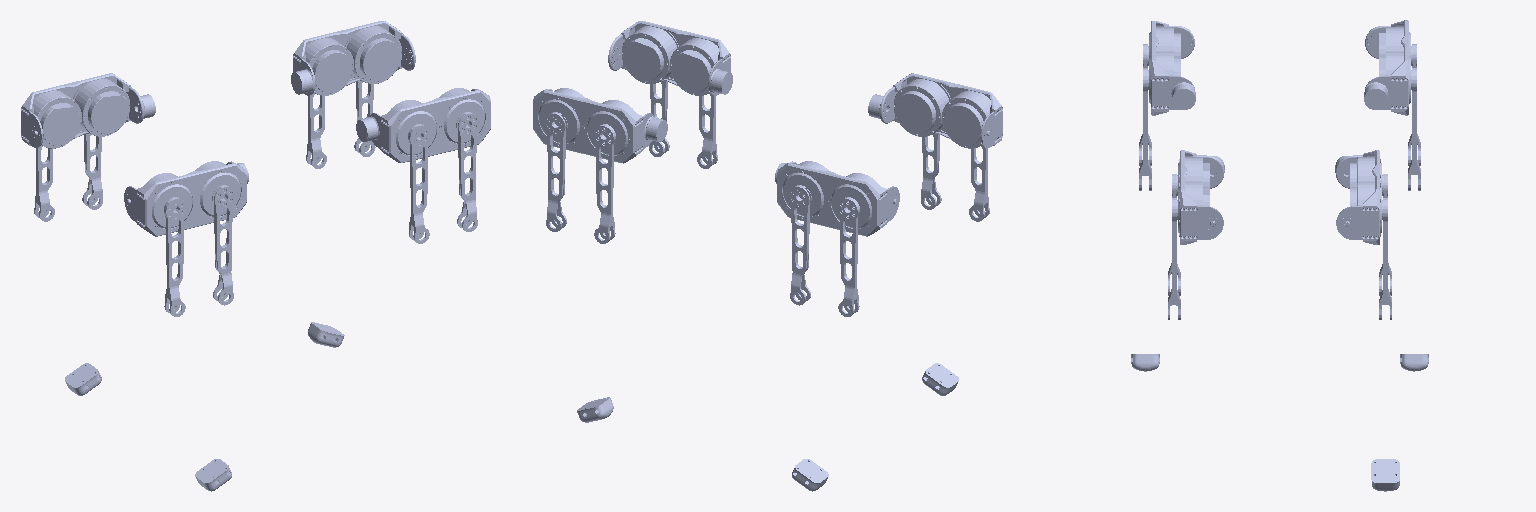
--- Render facts (derived) ---
The picture shows the robot from 3 angles, left to right: view 1: azimuth 30°, elevation 25°; view 2: azimuth 150°, elevation 25°; view 3: azimuth 270°, elevation 25°; orthographic projection.
Model olympus_description with 33 links and 32 joints (20 revolute, 12 fixed), rooted at Body, posed every joint at zero.
Links seen in each view (by area): view 1: BackLeft_motorHousing, FrontLeft_motorHousing, FrontRight_motorHousing, BackRight_motorHousing, BackRight_hip_inner, FrontRight_hip_outer, FrontRight_hip_inner, BackRight_hip_outer, BackLeft_hip_inner, BackLeft_hip_outer, FrontLeft_hip_inner, BackLeft_paw (+3 smaller); view 2: BackRight_motorHousing, FrontRight_motorHousing, FrontLeft_motorHousing, BackLeft_motorHousing, BackLeft_hip_inner, FrontLeft_hip_outer, FrontLeft_hip_inner, BackLeft_hip_outer, BackRight_hip_inner, BackRight_hip_outer, FrontRight_hip_inner, BackRight_paw (+3 smaller); view 3: BackLeft_motorHousing, BackRight_motorHousing, FrontLeft_motorHousing, FrontRight_motorHousing, FrontLeft_paw, BackRight_hip_inner, BackLeft_hip_inner, FrontRight_hip_outer, FrontLeft_hip_outer.
Boxes of the visible links, x1=… form: BackLeft_motorHousing: x1=21, y1=73, x2=155, y2=148; FrontLeft_motorHousing: x1=291, y1=21, x2=415, y2=95; FrontRight_motorHousing: x1=356, y1=88, x2=490, y2=162; BackRight_motorHousing: x1=124, y1=161, x2=248, y2=236; BackRight_hip_inner: x1=212, y1=185, x2=234, y2=305; FrontRight_hip_outer: x1=456, y1=112, x2=478, y2=231; FrontRight_hip_inner: x1=408, y1=124, x2=429, y2=243; BackRight_hip_outer: x1=164, y1=197, x2=185, y2=316; BackLeft_hip_inner: x1=82, y1=133, x2=102, y2=209; BackLeft_hip_outer: x1=34, y1=145, x2=54, y2=221; FrontLeft_hip_inner: x1=306, y1=93, x2=326, y2=168; BackLeft_paw: x1=65, y1=363, x2=101, y2=395; BackRight_motorHousing: x1=868, y1=73, x2=1002, y2=148; FrontRight_motorHousing: x1=608, y1=21, x2=732, y2=95; FrontLeft_motorHousing: x1=533, y1=88, x2=667, y2=163; BackLeft_motorHousing: x1=775, y1=161, x2=899, y2=236; BackLeft_hip_inner: x1=789, y1=185, x2=811, y2=305; FrontLeft_hip_outer: x1=545, y1=112, x2=567, y2=231; FrontLeft_hip_inner: x1=594, y1=124, x2=615, y2=243; BackLeft_hip_outer: x1=838, y1=197, x2=859, y2=316; BackRight_hip_inner: x1=921, y1=133, x2=941, y2=209; BackRight_hip_outer: x1=969, y1=145, x2=989, y2=221; FrontRight_hip_inner: x1=697, y1=93, x2=717, y2=168; BackRight_paw: x1=922, y1=363, x2=958, y2=395; BackLeft_motorHousing: x1=1364, y1=20, x2=1410, y2=115; BackRight_motorHousing: x1=1149, y1=21, x2=1195, y2=115; FrontLeft_motorHousing: x1=1335, y1=150, x2=1381, y2=244; FrontRight_motorHousing: x1=1178, y1=150, x2=1224, y2=244; FrontLeft_paw: x1=1371, y1=459, x2=1399, y2=491; BackRight_hip_inner: x1=1139, y1=68, x2=1151, y2=190; BackLeft_hip_inner: x1=1408, y1=68, x2=1420, y2=190; FrontRight_hip_outer: x1=1168, y1=198, x2=1180, y2=319; FrontLeft_hip_outer: x1=1379, y1=198, x2=1391, y2=319.
Size in the robot's own frame: 0.677 by 0.4654 by 0.5616 metres.
Meshes: 25 distinct files referenced, 15 mesh visuals loaded (15 binary STL); not drawn: 10 (reference not matched to a file when rendering).

robot.urdf — olympus_description:
<?xml version="1.0" ?>
<robot
  name="olympus_description">

  <link
    name="Body">
    <inertial>
      <origin
        xyz="-0.0093903 0.00018696 0.011109"
        rpy="0 0 0" />
      <mass
        value="5.679" />
      <inertia
        ixx="0.05428615"
        ixy="-0.00110179"
        ixz="-0.0017034"
        iyy="0.15070598"
        iyz="0.00013585"
        izz="0.19574722" />
    </inertial>
    <visual>
      <origin
        xyz="0 0 0"
        rpy="0 0 0" />
      <geometry>
        <mesh
          filename="package://olympus_description/urdf/meshes/Body.STL" />
      </geometry>
      <material
        name="">
        <color
          rgba="0.79216 0.81961 0.93333 1" />
      </material>
    </visual>
    <collision>
      <origin
        xyz="0 0 0"
        rpy="0 0 0" />
      <geometry>
        <mesh
          filename="package://olympus_description/urdf/meshes/Body.STL" />
      </geometry>
    </collision>
  </link>
  



  
  
  <!---

  

  <joint name="world_joint" type="fixed" >
    <origin
          xyz="0 0 0"
          rpy="0 0 0" />
      <parent
        link="world" />
      <child
        link="Body" />
  </joint>
  -->
  
  <link
    name="FrontLeft_motorHousing">
    <inertial>
      <origin
        xyz="0.092829 0.02913 0.00023828"
        rpy="0 0 0" />
      <mass
        value="1.437" />
      <inertia
        ixx="0.00232895"
        ixy="0.00418147"
        ixz="3.194E-05"
        iyy="0.01861991"
        iyz="4.4E-06"
        izz="0.01948836" />
    </inertial>
    <visual>
      <origin
        xyz="0 0 0"
        rpy="0 0 0" />
      <geometry>
        <mesh
          filename="package://olympus_description/urdf/meshes/FrontLeft_motorHousing.STL" />
      </geometry>
      <material
        name="">
        <color
          rgba="0.79216 0.81961 0.93333 1" />
      </material>
    </visual>
    <collision>
      <origin
        xyz="0 0 0"
        rpy="0 0 0" />
      <geometry>
        <mesh
          filename="package://olympus_description/urdf/meshes/FrontLeft_motorHousing.STL" />
      </geometry>
    </collision>
  </link>
  <joint
    name="FrontLeft_motorHousing_hipAduction_motor"
    type="revolute">
    <origin
      xyz="0.143300000000002 0.104999999999997 0"
      rpy="0 0 0" />
    <parent
      link="Body" />
    <child
      link="FrontLeft_motorHousing" />
    <axis
      xyz="-1 0 0" />
    <limit
      lower="-1.57"
      upper="1.57"
      effort="0"
      velocity="0" />
  </joint>
  <link
    name="FrontLeft_hip_outer">
    <inertial>
      <origin
        xyz="0.00087097 -0.0026333 -0.059284"
        rpy="0 0 0" />
      <mass
        value="0.0813" />
      <inertia
        ixx="0.00080451"
        ixy="7E-08"
        ixz="-1.097E-05"
        iyy="0.00081035"
        iyz="-4.68E-06"
        izz="8.51E-06" />
    </inertial>
    <visual>
      <origin
        xyz="0 0 0"
        rpy="0 0 0" />
      <geometry>
        <mesh
          filename="package://olympus_description/urdf/meshes/FrontLeft_hip_outer.STL" />
      </geometry>
      <material
        name="">
        <color
          rgba="0.79216 0.81961 0.93333 1" />
      </material>
    </visual>
    <collision>
      <origin
        xyz="0 0 0"
        rpy="0 0 0" />
      <geometry>
        <mesh
          filename="package://olympus_description/urdf/meshes/FrontLeft_hip_outer.STL" />
      </geometry>
    </collision>
  </link>
  <joint
    name="FrontLeft_hip_outer_motor"
    type="revolute">
    <origin
      xyz="0.141699999999999 0.0594499999999993 -1.13383701894222E-05"
      rpy="0 0 0" />
    <parent
      link="FrontLeft_motorHousing" />
    <child
      link="FrontLeft_hip_outer" />
    <axis
      xyz="0 1 0" />
    <limit
      lower="-1.57"
      upper="1.57"
      effort="0"
      velocity="0" />
  </joint>
  <link
    name="FrontLeft_shank_outer">
    <inertial>
      <origin
        xyz="0.0044745 -6.207E-07 -0.16466"
        rpy="0 0 0" />
      <mass
        value="0.1992" />
      <inertia
        ixx="0.0081046"
        ixy="3E-08"
        ixz="-8.7E-05"
        iyy="0.00810896"
        iyz="-1.7E-06"
        izz="2.321E-05" />
    </inertial>
    <visual>
      <origin
        xyz="0 0 0"
        rpy="0 0 0" />
      <geometry>
        <mesh
          filename="package://olympus_description/urdf/meshes/FrontLeft_shank_outer.STL" />
      </geometry>
      <material
        name="">
        <color
          rgba="0.79216 0.81961 0.93333 1" />
      </material>
    </visual>
    <collision>
      <origin
        xyz="0 0 0"
        rpy="0 0 0" />
      <geometry>
        <mesh
          filename="package://olympus_description/urdf/meshes/FrontLeft_shank_outer.STL" />
      </geometry>
    </collision>
  </link>
  <joint
    name="FrontLeft_shank_outer_knee"
    type="revolute">
    <origin
      xyz="0 0.000749999999999196 -0.175000000000029"
      rpy="0 0.145529485228563 0" />
    <parent
      link="FrontLeft_hip_outer" />
    <child
      link="FrontLeft_shank_outer" />
    <axis
      xyz="0 1 0" />
    <limit
      lower="-1.57"
      upper="1.57"
      effort="0"
      velocity="0" />
  </joint>
  <link
    name="FrontLeft_hip_inner">
    <inertial>
      <origin
        xyz="-0.00087111 -0.0026375 -0.059532"
        rpy="0 0 0" />
      <mass
        value="0.081" />
      <inertia
        ixx="0.00080743"
        ixy="-7E-08"
        ixz="1.1E-05"
        iyy="0.00081318"
        iyz="-4.71E-06"
        izz="3.7587E-06" />
    </inertial>
    <visual>
      <origin
        xyz="0 0 0"
        rpy="0 0 0" />
      <geometry>
        <mesh
          filename="package://olympus_description/urdf/meshes/FrontLeft_hip_inner.STL" />
      </geometry>
      <material
        name="">
        <color
          rgba="0.79216 0.81961 0.93333 1" />
      </material>
    </visual>
    <collision>
      <origin
        xyz="0 0 0"
        rpy="0 0 0" />
      <geometry>
        <mesh
          filename="package://olympus_description/urdf/meshes/FrontLeft_hip_inner.STL" />
      </geometry>
    </collision>
  </link>
  <joint
    name="FrontLeft_hip_inner_motor"
    type="revolute">
    <origin
      xyz="0.051699999999999 0.0594499999999993 -1.1338370204463E-05"
      rpy="0 0 0" />
    <parent
      link="FrontLeft_motorHousing" />
    <child
      link="FrontLeft_hip_inner" />
    <axis
      xyz="0 1 0" />
    <limit
      lower="-1.57"
      upper="1.57"
      effort="0"
      velocity="0" />
  </joint>
  <link
    name="FrontLeft_shank_inner">
    <inertial>
      <origin
        xyz="-0.018257 -5.7848E-07 -0.18193"
        rpy="0 0 0" />
      <mass
        value="0.1993" />
      <inertia
        ixx="0.00799515"
        ixy="-1.3E-07"
        ixz="0.00072855"
        iyy="0.00807089"
        iyz="-1.55E-06"
        izz="9.64E-05" />
    </inertial>
    <visual>
      <origin
        xyz="0 0 0"
        rpy="0 0 0" />
      <geometry>
        <mesh
          filename="package://olympus_description/urdf/meshes/FrontLeft_shank_inner.STL" />
      </geometry>
      <material
        name="">
        <color
          rgba="0.79216 0.81961 0.93333 1" />
      </material>
    </visual>
    <collision>
      <origin
        xyz="0 0 0"
        rpy="0 0 0" />
      <geometry>
        <mesh
          filename="package://olympus_description/urdf/meshes/FrontLeft_shank_inner.STL" />
      </geometry>
    </collision>
  </link>
  <joint
    name="FrontLeft_shank_inner_knee"
    type="revolute">
    <origin
      xyz="0 0.000750000000007855 -0.175000000000014"
      rpy="0 -0.156107447167547 0" />
    <parent
      link="FrontLeft_hip_inner" />
    <child
      link="FrontLeft_shank_inner" />
    <axis
      xyz="0 1 0" />
    <limit
      lower="-1.57"
      upper="1.57"
      effort="0"
      velocity="0" />
  </joint>
  <link
    name="FrontLeft_paw">
    <inertial>
      <origin
        xyz="-0.00016141 -2.5484E-07 0.0013973"
        rpy="0 0 0" />
      <mass
        value="0.02" />
      <inertia
        ixx="3.73E-06"
        ixy="-2.6396E-10"
        ixz="-2E-08"
        iyy="4.78E-06"
        iyz="-7.8092E-11"
        izz="6.37E-06" />
    </inertial>
    <visual>
      <origin
        xyz="0 0 0"
        rpy="0 0 0" />
      <geometry>
        <mesh
          filename="package://olympus_description/urdf/meshes/FrontLeft_paw.STL" />
      </geometry>
      <material
        name="">
        <color
          rgba="0.79216 0.81961 0.93333 1" />
      </material>
    </visual>
    <collision>
      <origin
        xyz="0 0 0"
        rpy="0 0 0" />
      <geometry>
        <mesh
          filename="package://olympus_description/urdf/meshes/FrontLeft_paw.STL" />
      </geometry>
    </collision>
  </link>
  <joint
    name="FrontLeft_paw_joint"
    type="fixed">
    <origin
      xyz="-0.034316172849209 0 -0.318287120023731"
      rpy="0 -0.587745839939292 3.14159265358979" />
    <parent
      link="FrontLeft_shank_inner" />
    <child
      link="FrontLeft_paw" />
    <axis
      xyz="0 0 0" />
  </joint>

  <link
    name="FrontRight_motorHousing">
    <inertial>
      <origin
        xyz="0.092829 -0.02913 -0.00023828"
        rpy="0 0 0" />
      <mass
        value="1.4374" />
      <inertia
        ixx="0.00232895"
        ixy="-0.00418147"
        ixz="-3.194E-05"
        iyy="0.01861991"
        iyz="4.4E-06"
        izz="0.01948836" />
    </inertial>
    <visual>
      <origin
        xyz="0 0 0"
        rpy="0 0 0" />
      <geometry>
        <mesh
          filename="package://olympus_description/urdf/meshes/FrontRight_motorHousing.STL" />
      </geometry>
      <material
        name="">
        <color
          rgba="0.79216 0.81961 0.93333 1" />
      </material>
    </visual>
    <collision>
      <origin
        xyz="0 0 0"
        rpy="0 0 0" />
      <geometry>
        <mesh
          filename="package://olympus_description/urdf/meshes/FrontRight_motorHousing.STL" />
      </geometry>
    </collision>
  </link>
  <joint
    name="FrontRight_motorHousing_hipAduction_motor"
    type="revolute">
    <origin
      xyz="0.143300000000001 -0.104999999999999 0"
      rpy="0 0 0" />
    <parent
      link="Body" />
    <child
      link="FrontRight_motorHousing" />
    <axis
      xyz="-1 0 0" />
    <limit
      lower="-1.57"
      upper="1.57"
      effort="0"
      velocity="0" />
  </joint>
  <link
    name="FrontRight_hip_outer">
    <inertial>
      <origin
        xyz="0.00087111 0.0026375 -0.059532"
        rpy="0 0 0" />
      <mass
        value="0.0805" />
      <inertia
        ixx="0.00080743"
        ixy="-7E-08"
        ixz="-1.1E-05"
        iyy="0.00081318"
        iyz="4.71E-06"
        izz="8.42E-06" />
    </inertial>
    <visual>
      <origin
        xyz="0 0 0"
        rpy="0 0 0" />
      <geometry>
        <mesh
          filename="package://olympus_description/urdf/meshes/FrontRight_hip_outer.STL" />
      </geometry>
      <material
        name="">
        <color
          rgba="0.79216 0.81961 0.93333 1" />
      </material>
    </visual>
    <collision>
      <origin
        xyz="0 0 0"
        rpy="0 0 0" />
      <geometry>
        <mesh
          filename="package://olympus_description/urdf/meshes/FrontRight_hip_outer.STL" />
      </geometry>
    </collision>
  </link>
  <joint
    name="FrontRight_hip_outer_motor"
    type="revolute">
    <origin
      xyz="0.141700000000001 -0.0594500000000023 1.13383701978259E-05"
      rpy="0 0 0" />
    <parent
      link="FrontRight_motorHousing" />
    <child
      link="FrontRight_hip_outer" />
    <axis
      xyz="0 -1 0" />
    <limit
      lower="-1.57"
      upper="1.57"
      effort="0"
      velocity="0" />
  </joint>
  <link
    name="FrontRight_shank_outer">
    <inertial>
      <origin
        xyz="0.0044745 -6.1929E-07 -0.16466"
        rpy="0 0 0" />
      <mass
        value="0.1992" />
      <inertia
        ixx="0.0081046"
        ixy="3E-08"
        ixz="-8.7E-05"
        iyy="0.00810896"
        iyz="-1.7E-06"
        izz="2.321E-05" />
    </inertial>
    <visual>
      <origin
        xyz="0 0 0"
        rpy="0 0 0" />
      <geometry>
        <mesh
          filename="package://olympus_description/urdf/meshes/FrontRight_shank_outer.STL" />
      </geometry>
      <material
        name="">
        <color
          rgba="0.79216 0.81961 0.93333 1" />
      </material>
    </visual>
    <collision>
      <origin
        xyz="0 0 0"
        rpy="0 0 0" />
      <geometry>
        <mesh
          filename="package://olympus_description/urdf/meshes/FrontRight_shank_outer.STL" />
      </geometry>
    </collision>
  </link>
  <joint
    name="FrontRight_shank_outer_knee"
    type="revolute">
    <origin
      xyz="0 -0.000750000000000334 -0.174999999999994"
      rpy="0 0.145529485228574 0" />
    <parent
      link="FrontRight_hip_outer" />
    <child
      link="FrontRight_shank_outer" />
    <axis
      xyz="0 1 0" />
    <limit
      lower="-1.57"
      upper="1.57"
      effort="0"
      velocity="0" />
  </joint>
  <link
    name="FrontRight_hip_inner">
    <inertial>
      <origin
        xyz="-0.00087097 0.0026333 -0.059284"
        rpy="0 0 0" />
      <mass
        value="0.081" />
      <inertia
        ixx="0.00080451"
        ixy="7E-08"
        ixz="1.098E-05"
        iyy="0.00081035"
        iyz="4.68E-06"
        izz="8.51E-06" />
    </inertial>
    <visual>
      <origin
        xyz="0 0 0"
        rpy="0 0 0" />
      <geometry>
        <mesh
          filename="package://olympus_description/urdf/meshes/FrontRight_hip_inner.STL" />
      </geometry>
      <material
        name="">
        <color
          rgba="0.79216 0.81961 0.93333 1" />
      </material>
    </visual>
    <collision>
      <origin
        xyz="0 0 0"
        rpy="0 0 0" />
      <geometry>
        <mesh
          filename="package://olympus_description/urdf/meshes/FrontRight_hip_inner.STL" />
      </geometry>
    </collision>
  </link>
  <joint
    name="FrontRight_hip_inner_motor"
    type="revolute">
    <origin
      xyz="0.0517000000000003 -0.0594500000000019 1.13383701956029E-05"
      rpy="0 0 0" />
    <parent
      link="FrontRight_motorHousing" />
    <child
      link="FrontRight_hip_inner" />
    <axis
      xyz="0 1 0" />
    <limit
      lower="-1.57"
      upper="1.57"
      effort="0"
      velocity="0" />
  </joint>
  <link
    name="FrontRight_shank_inner">
    <inertial>
      <origin
        xyz="-0.018257 -5.8199E-07 -0.18193"
        rpy="0 0 0" />
      <mass
        value="0.1992" />
      <inertia
        ixx="0.00799515"
        ixy="-1.3E-07"
        ixz="0.00072855"
        iyy="0.00807089"
        iyz="-1.55E-06"
        izz="9.64E-05" />
    </inertial>
    <visual>
      <origin
        xyz="0 0 0"
        rpy="0 0 0" />
      <geometry>
        <mesh
          filename="package://olympus_description/urdf/meshes/FrontRight_shank_inner.STL" />
      </geometry>
      <material
        name="">
        <color
          rgba="0.79216 0.81961 0.93333 1" />
      </material>
    </visual>
    <collision>
      <origin
        xyz="0 0 0"
        rpy="0 0 0" />
      <geometry>
        <mesh
          filename="package://olympus_description/urdf/meshes/FrontRight_shank_inner.STL" />
      </geometry>
    </collision>
  </link>
  <joint
    name="FrontRight_shank_inner_knee"
    type="revolute">
    <origin
      xyz="0 -0.000749999999992201 -0.174999999999991"
      rpy="0 -0.156107447167536 0" />
    <parent
      link="FrontRight_hip_inner" />
    <child
      link="FrontRight_shank_inner" />
    <axis
      xyz="0 1 0" />
    <limit
      lower="-1.57"
      upper="1.57"
      effort="0"
      velocity="0" />
  </joint>
  <link
    name="FrontRight_paw">
    <inertial>
      <origin
        xyz="-0.00016141 -2.5484E-07 0.0013973"
        rpy="0 0 0" />
      <mass
        value="0.02" />
      <inertia
        ixx="3.73E-06"
        ixy="0"
        ixz="-2E-08"
        iyy="4.78E-06"
        iyz="0"
        izz="6.37E-06" />
    </inertial>
    <visual>
      <origin
        xyz="0 0 0"
        rpy="0 0 0" />
      <geometry>
        <mesh
          filename="package://olympus_description/urdf/meshes/FrontRight_paw.STL" />
      </geometry>
      <material
        name="">
        <color
          rgba="0.79216 0.81961 0.93333 1" />
      </material>
    </visual>
    <collision>
      <origin
        xyz="0 0 0"
        rpy="0 0 0" />
      <geometry>
        <mesh
          filename="package://olympus_description/urdf/meshes/FrontRight_paw.STL" />
      </geometry>
    </collision>
  </link>
  <joint
    name="FrontRight_paw_joint"
    type="fixed">
    <origin
      xyz="-0.0343161728492139 0 -0.318287120023735"
      rpy="0 -0.587745839939292 3.14159265358979" />
    <parent
      link="FrontRight_shank_inner" />
    <child
      link="FrontRight_paw" />
    <axis
      xyz="0 0 0" />
  </joint>
  <link
    name="BackLeft_motorHousing">
    <inertial>
      <origin
        xyz="-0.092829 0.02913 -0.00023828"
        rpy="0 0 0" />
      <mass
        value="1.437" />
      <inertia
        ixx="0.00232895"
        ixy="-0.00418147"
        ixz="3.194E-05"
        iyy="0.01861991"
        iyz="-4.4E-06"
        izz="0.01948836" />
    </inertial>
    <visual>
      <origin
        xyz="0 0 0"
        rpy="0 0 0" />
      <geometry>
        <mesh
          filename="package://olympus_description/urdf/meshes/BackLeft_motorHousing.STL" />
      </geometry>
      <material
        name="">
        <color
          rgba="0.79216 0.81961 0.93333 1" />
      </material>
    </visual>
    <collision>
      <origin
        xyz="0 0 0"
        rpy="0 0 0" />
      <geometry>
        <mesh
          filename="package://olympus_description/urdf/meshes/BackLeft_motorHousing.STL" />
      </geometry>
    </collision>
  </link>
  <joint
    name="BackLeft_motorHousing_hipAduction_motor"
    type="revolute">
    <origin
      xyz="-0.143300000000002 0.149999999999995 0"
      rpy="0 0 0" />
    <parent
      link="Body" />
    <child
      link="BackLeft_motorHousing" />
    <axis
      xyz="1 0 0" />
    <limit
      lower="-1.57"
      upper="1.57"
      effort="0"
      velocity="0" />
  </joint>
  <link
    name="BackLeft_hip_outer">
    <inertial>
      <origin
        xyz="-0.00087111 -0.0026375 -0.059532"
        rpy="0 0 0" />
      <mass
        value="0.0805" />
      <inertia
        ixx="0.00080743"
        ixy="-7E-08"
        ixz="1.1E-05"
        iyy="0.00081318"
        iyz="-4.71E-06"
        izz="8.42E-06" />
    </inertial>
    <visual>
      <origin
        xyz="0 0 0"
        rpy="0 0 0" />
      <geometry>
        <mesh
          filename="package://olympus_description/urdf/meshes/BackLeft_hip_outer.STL" />
      </geometry>
      <material
        name="">
        <color
          rgba="0.79216 0.81961 0.93333 1" />
      </material>
    </visual>
    <collision>
      <origin
        xyz="0 0 0"
        rpy="0 0 0" />
      <geometry>
        <mesh
          filename="package://olympus_description/urdf/meshes/BackLeft_hip_outer.STL" />
      </geometry>
    </collision>
  </link>
  <joint
    name="BackLeft_hip_outer_motor"
    type="revolute">
    <origin
      xyz="-0.141699999999998 0.059450000000001 1.13383699833258E-05"
      rpy="0 0 0" />
    <parent
      link="BackLeft_motorHousing" />
    <child
      link="BackLeft_hip_outer" />
    <axis
      xyz="0 -1 0" />
    <limit
      lower="-1.57"
      upper="1.57"
      effort="0"
      velocity="0" />
  </joint>
  <link
    name="BackLeft_shank_outer">
    <inertial>
      <origin
        xyz="-0.0044745 6.2096E-07 -0.16466"
        rpy="0 0 0" />
      <mass
        value="0.1992" />
      <inertia
        ixx="0.0081046"
        ixy="3E-08"
        ixz="8.7E-05"
        iyy="0.00810896"
        iyz="1.7E-06"
        izz="2.321E-05" />
    </inertial>
    <visual>
      <origin
        xyz="0 0 0"
        rpy="0 0 0" />
      <geometry>
        <mesh
          filename="package://olympus_description/urdf/meshes/BackLeft_shank_outer.STL" />
      </geometry>
      <material
        name="">
        <color
          rgba="0.79216 0.81961 0.93333 1" />
      </material>
    </visual>
    <collision>
      <origin
        xyz="0 0 0"
        rpy="0 0 0" />
      <geometry>
        <mesh
          filename="package://olympus_description/urdf/meshes/BackLeft_shank_outer.STL" />
      </geometry>
    </collision>
  </link>
  <joint
    name="BackLeft_shank_outer_knee"
    type="revolute">
    <origin
      xyz="0 0.000749999999989648 -0.174999999999787"
      rpy="0 -0.145529485231085 0" />
    <parent
      link="BackLeft_hip_outer" />
    <child
      link="BackLeft_shank_outer" />
    <axis
      xyz="0 1 0" />
    <limit
      lower="-1.57"
      upper="1.57"
      effort="0"
      velocity="0" />
  </joint>
  <link
    name="BackLeft_hip_inner">
    <inertial>
      <origin
        xyz="0.00087097 -0.0026333 -0.059284"
        rpy="0 0 0" />
      <mass
        value="0.081" />
      <inertia
        ixx="0.00080451"
        ixy="7E-08"
        ixz="-1.097E-05"
        iyy="0.00081035"
        iyz="-4.68E-06"
        izz="8.51E-06" />
    </inertial>
    <visual>
      <origin
        xyz="0 0 0"
        rpy="0 0 0" />
      <geometry>
        <mesh
          filename="package://olympus_description/urdf/meshes/BackLeft_hip_inner.STL" />
      </geometry>
      <material
        name="">
        <color
          rgba="0.79216 0.81961 0.93333 1" />
      </material>
    </visual>
    <collision>
      <origin
        xyz="0 0 0"
        rpy="0 0 0" />
      <geometry>
        <mesh
          filename="package://olympus_description/urdf/meshes/BackLeft_hip_inner.STL" />
      </geometry>
    </collision>
  </link>
  <joint
    name="BackLeft_hip_inner_motor"
    type="revolute">
    <origin
      xyz="-0.0516999999999978 0.0594500000000004 1.13383700547322E-05"
      rpy="0 0 0" />
    <parent
      link="BackLeft_motorHousing" />
    <child
      link="BackLeft_hip_inner" />
    <axis
      xyz="0 -1 0" />
    <limit
      lower="-1.57"
      upper="1.57"
      effort="0"
      velocity="0" />
  </joint>
  <link
    name="BackLeft_shank_inner">
    <inertial>
      <origin
        xyz="0.018257 5.8939E-07 -0.18193"
        rpy="0 0 0" />
      <mass
        value="0.1993" />
      <inertia
        ixx="0.00799515"
        ixy="-1.3E-07"
        ixz="-0.00072855"
        iyy="0.00807089"
        iyz="1.55E-06"
        izz="9.64E-05" />
    </inertial>
    <visual>
      <origin
        xyz="0 0 0"
        rpy="0 0 0" />
      <geometry>
        <mesh
          filename="package://olympus_description/urdf/meshes/BackLeft_shank_inner.STL" />
      </geometry>
      <material
        name="">
        <color
          rgba="0.79216 0.81961 0.93333 1" />
      </material>
    </visual>
    <collision>
      <origin
        xyz="0 0 0"
        rpy="0 0 0" />
      <geometry>
        <mesh
          filename="package://olympus_description/urdf/meshes/BackLeft_shank_inner.STL" />
      </geometry>
    </collision>
  </link>
  <joint
    name="BackLeft_shank_inner_knee"
    type="revolute">
    <origin
      xyz="0 0.000749999999984485 -0.174999999999858"
      rpy="0 0.156107447167218 0" />
    <parent
      link="BackLeft_hip_inner" />
    <child
      link="BackLeft_shank_inner" />
    <axis
      xyz="0 1 0" />
    <limit
      lower="-1.57"
      upper="1.57"
      effort="0"
      velocity="0" />
  </joint>
  <link
    name="BackLeft_paw">
    <inertial>
      <origin
        xyz="0.00016141 2.5484E-07 0.0013973"
        rpy="0 0 0" />
      <mass
        value="0.02" />
      <inertia
        ixx="1.236E-05"
        ixy="0"
        ixz="5E-08"
        iyy="1.587E-05"
        iyz="0"
        izz="2.129E-05" />
    </inertial>
    <visual>
      <origin
        xyz="0 0 0"
        rpy="0 0 0" />
      <geometry>
        <mesh
          filename="package://olympus_description/urdf/meshes/BackLeft_paw.STL" />
      </geometry>
      <material
        name="">
        <color
          rgba="0.79216 0.81961 0.93333 1" />
      </material>
    </visual>
    <collision>
      <origin
        xyz="0 0 0"
        rpy="0 0 0" />
      <geometry>
        <mesh
          filename="package://olympus_description/urdf/meshes/BackLeft_paw.STL" />
      </geometry>
    </collision>
  </link>
  <joint
    name="BackLeft_paw_joint"
    type="fixed">
    <origin
      xyz="0.0343161728493504 0 -0.318287120023714"
      rpy="0 0.587745839939292 -3.14159265358976" />
    <parent
      link="BackLeft_shank_inner" />
    <child
      link="BackLeft_paw" />
    <axis
      xyz="0 0 0" />
  </joint>
  <link
    name="BackRight_motorHousing">
    <inertial>
      <origin
        xyz="-0.092829 -0.02913 0.00023828"
        rpy="0 0 0" />
      <mass
        value="1.437" />
      <inertia
        ixx="0.00232895"
        ixy="0.00418147"
        ixz="-3.194E-05"
        iyy="0.01861991"
        iyz="-4.4E-06"
        izz="0.01948836" />
    </inertial>
    <visual>
      <origin
        xyz="0 0 0"
        rpy="0 0 0" />
      <geometry>
        <mesh
          filename="package://olympus_description/urdf/meshes/BackRight_motorHousing.STL" />
      </geometry>
      <material
        name="">
        <color
          rgba="0.79216 0.81961 0.93333 1" />
      </material>
    </visual>
    <collision>
      <origin
        xyz="0 0 0"
        rpy="0 0 0" />
      <geometry>
        <mesh
          filename="package://olympus_description/urdf/meshes/BackRight_motorHousing.STL" />
      </geometry>
    </collision>
  </link>
  <joint
    name="BackRight_motorHousing_hipAduction_motor12"
    type="revolute">
    <origin
      xyz="-0.1433 -0.150000000000002 0"
      rpy="0 0 0" />
    <parent
      link="Body" />
    <child
      link="BackRight_motorHousing" />
    <axis
      xyz="1 0 0" />
    <limit
      lower="-1.57"
      upper="1.57"
      effort="0"
      velocity="0" />
  </joint>
  <link
    name="BackRight_hip_outer">
    <inertial>
      <origin
        xyz="-0.00087097 0.0026333 -0.059284"
        rpy="0 0 0" />
      <mass
        value="0.081" />
      <inertia
        ixx="0.00080451"
        ixy="7E-08"
        ixz="1.098E-05"
        iyy="0.00081035"
        iyz="4.68E-06"
        izz="8.51E-06" />
    </inertial>
    <visual>
      <origin
        xyz="0 0 0"
        rpy="0 0 0" />
      <geometry>
        <mesh
          filename="package://olympus_description/urdf/meshes/BackRight_hip_outer.STL" />
      </geometry>
      <material
        name="">
        <color
          rgba="0.79216 0.81961 0.93333 1" />
      </material>
    </visual>
    <collision>
      <origin
        xyz="0 0 0"
        rpy="0 0 0" />
      <geometry>
        <mesh
          filename="package://olympus_description/urdf/meshes/BackRight_hip_outer.STL" />
      </geometry>
    </collision>
  </link>
  <joint
    name="BackRight_hip_outer_motor10"
    type="revolute">
    <origin
      xyz="-0.1417 -0.0594500000000014 -1.13383706822422E-05"
      rpy="0 0 0" />
    <parent
      link="BackRight_motorHousing" />
    <child
      link="BackRight_hip_outer" />
    <axis
      xyz="0 1 0" />
    <limit
      lower="-1.57"
      upper="1.57"
      effort="0"
      velocity="0" />
  </joint>
  <link
    name="BackRight_shank_outer">
    <inertial>
      <origin
        xyz="-0.0044745 6.1738E-07 -0.16466"
        rpy="0 0 0" />
      <mass
        value="0.1992" />
      <inertia
        ixx="0.0081046"
        ixy="3E-08"
        ixz="8.7E-05"
        iyy="0.00810896"
        iyz="1.7E-06"
        izz="2.321E-05" />
    </inertial>
    <visual>
      <origin
        xyz="0 0 0"
        rpy="0 0 0" />
      <geometry>
        <mesh
          filename="package://olympus_description/urdf/meshes/BackRight_shank_outer.STL" />
      </geometry>
      <material
        name="">
        <color
          rgba="0.79216 0.81961 0.93333 1" />
      </material>
    </visual>
    <collision>
      <origin
        xyz="0 0 0"
        rpy="0 0 0" />
      <geometry>
        <mesh
          filename="package://olympus_description/urdf/meshes/BackRight_shank_outer.STL" />
      </geometry>
    </collision>
  </link>
  <joint
    name="BackRight_shank_outer_knee"
    type="revolute">
    <origin
      xyz="0 -0.000749999999264783 -0.174999999999897"
      rpy="0 -0.145529485225738 0" />
    <parent
      link="BackRight_hip_outer" />
    <child
      link="BackRight_shank_outer" />
    <axis
      xyz="0 1 0" />
    <limit
      lower="-1.57"
      upper="1.57"
      effort="0"
      velocity="0" />
  </joint>
  <link
    name="BackRight_hip_inner">
    <inertial>
      <origin
        xyz="0.00087111 0.0026375 -0.059532"
        rpy="0 0 0" />
      <mass
        value="0.0805" />
      <inertia
        ixx="0.00080743"
        ixy="-7E-08"
        ixz="-1.1E-05"
        iyy="0.00081318"
        iyz="4.71E-06"
        izz="8.42E-06" />
    </inertial>
    <visual>
      <origin
        xyz="0 0 0"
        rpy="0 0 0" />
      <geometry>
        <mesh
          filename="package://olympus_description/urdf/meshes/BackRight_hip_inner.STL" />
      </geometry>
      <material
        name="">
        <color
          rgba="0.79216 0.81961 0.93333 1" />
      </material>
    </visual>
    <collision>
      <origin
        xyz="0 0 0"
        rpy="0 0 0" />
      <geometry>
        <mesh
          filename="package://olympus_description/urdf/meshes/BackRight_hip_inner.STL" />
      </geometry>
    </collision>
  </link>
  <joint
    name="BackRight_hip_inner_motor11"
    type="revolute">
    <origin
      xyz="-0.0517000000000002 -0.0594500000000022 -1.1338370431546E-05"
      rpy="0 0 0" />
    <parent
      link="BackRight_motorHousing" />
    <child
      link="BackRight_hip_inner" />
    <axis
      xyz="0 1 0" />
    <limit
      lower="-1.57"
      upper="1.57"
      effort="0"
      velocity="0" />
  </joint>
  <link
    name="BackRight_shank_inner">
    <inertial>
      <origin
        xyz="0.018257 5.8084E-07 -0.18193"
        rpy="0 0 0" />
      <mass
        value="0.1993" />
      <inertia
        ixx="0.00799515"
        ixy="-1.3E-07"
        ixz="-0.00072855"
        iyy="0.00807089"
        iyz="1.55E-06"
        izz="9.64E-05" />
    </inertial>
    <visual>
      <origin
        xyz="0 0 0"
        rpy="0 0 0" />
      <geometry>
        <mesh
          filename="package://olympus_description/urdf/meshes/BackRight_shank_inner.STL" />
      </geometry>
      <material
        name="">
        <color
          rgba="0.79216 0.81961 0.93333 1" />
      </material>
    </visual>
    <collision>
      <origin
        xyz="0 0 0"
        rpy="0 0 0" />
      <geometry>
        <mesh
          filename="package://olympus_description/urdf/meshes/BackRight_shank_inner.STL" />
      </geometry>
    </collision>
  </link>
  <joint
    name="BackRight_shank_inner_knee"
    type="revolute">
    <origin
      xyz="0 -0.000749999999271611 -0.174999999999955"
      rpy="0 0.156107447164923 0" />
    <parent
      link="BackRight_hip_inner" />
    <child
      link="BackRight_shank_inner" />
    <axis
      xyz="0 1 0" />
    <limit
      lower="-1.57"
      upper="1.57"
      effort="0"
      velocity="0" />
  </joint>
  <link
    name="BackRight_paw">
    <inertial>
      <origin
        xyz="0.00016141 2.5484E-07 0.0013973"
        rpy="0 0 0" />
      <mass
        value="0.02" />
      <inertia
        ixx="1.245E-05"
        ixy="0"
        ixz="6E-08"
        iyy="1.597E-05"
        iyz="0"
        izz="2.129E-05" />
    </inertial>
    <visual>
      <origin
        xyz="0 0 0"
        rpy="0 0 0" />
      <geometry>
        <mesh
          filename="package://olympus_description/urdf/meshes/BackRight_paw.STL" />
      </geometry>
      <material
        name="">
        <color
          rgba="0.79216 0.81961 0.93333 1" />
      </material>
    </visual>
    <collision>
      <origin
        xyz="0 0 0"
        rpy="0 0 0" />
      <geometry>
        <mesh
          filename="package://olympus_description/urdf/meshes/BackRight_paw.STL" />
      </geometry>
    </collision>
  </link>
  <joint
    name="BackRight_paw_joint"
    type="fixed">
    <origin
      xyz="0.0343161728494181 0 -0.318287120023818"
      rpy="0 0.58774583993929 3.14159265358979" />
    <parent
      link="BackRight_shank_inner" />
    <child
      link="BackRight_paw" />
    <axis
      xyz="0 0 0" />
  </joint>


<!--  Dummy Points For Ankel Joints Defining The CKC  -->
<!-- FRONT LEFT-->

  <link name = "FrontLeft_ankle_outer" />
  <joint
    name="FrontLeft_ankle_outer_joint"
    type="fixed">
    <origin
      xyz="0 0 -0.29929"
      rpy="0 0 0" />
    <parent
      link="FrontLeft_shank_outer" />
    <child
      link="FrontLeft_ankle_outer" />
    <axis
      xyz="0 0 0" />
  </joint>

  <link name = "FrontLeft_ankle_inner" />

  <joint
    name="FrontLeft_ankle_inner_joint"
    type="fixed">
    <origin
      xyz="0 0 -0.29610"
      rpy="0 0 0" />
    <parent
      link="FrontLeft_shank_inner" />
    <child
      link="FrontLeft_ankle_inner" />
    <axis
      xyz="0 0 0" />
  </joint>


<!-- FRONT RIGHT-->

  <link name = "FrontRight_ankle_outer" />
  <joint
    name="FrontRight_ankle_outer_joint"
    type="fixed">
    <origin
      xyz="0 0 -0.296"
      rpy="0 0 0" />
    <parent
      link="FrontRight_shank_outer" />
    <child
      link="FrontRight_ankle_outer" />
    <axis
      xyz="0 0 0" />
  </joint>

   <link name = "FrontRight_ankle_inner" />
  <joint
    name="FrontRight_ankle_inner_joint"
    type="fixed">
    <origin
      xyz="0 0 -0.296"
      rpy="0 0 0" />
    <parent
      link="FrontRight_shank_inner" />
    <child
      link="FrontRight_ankle_inner" />
    <axis
      xyz="0 0 0" />
  </joint>

<!-- BACK LEFT-->
    <link name = "BackLeft_ankle_outer" />
    <joint
      name="BackLeft_ankle_outer_joint"
      type="fixed">
      <origin
        xyz="0 0 -0.296"
        rpy="0 0 0" />
      <parent
        link="BackLeft_shank_outer" />
      <child
        link="BackLeft_ankle_outer" />
      <axis
        xyz="0 0 0" />
    </joint>
  
    <link name = "BackLeft_ankle_inner" />
    <joint
      name="BackLeft_ankle_inner_joint"
      type="fixed">
      <origin
        xyz="0 0 -0.296"
        rpy="0 0 0" />
      <parent
        link="BackLeft_shank_inner" />
      <child
        link="BackLeft_ankle_inner" />
      <axis
        xyz="0 0 0" />
    </joint>
  
<!-- BACK RIGHT-->
 
    <link name = "BackRight_ankle_outer" />
    <joint
      name="BackRight_ankle_outer_joint"
      type="fixed">
      <origin
        xyz="0 0 -0.296"
        rpy="0 0 0" />
      <parent
        link="BackRight_shank_outer" />
      <child
        link="BackRight_ankle_outer" />
      <axis
        xyz="0 0 0" />
    </joint>
  
    <link name = "BackRight_ankle_inner" />
    <joint
      name="BackRight_ankle_inner_joint"
      type="fixed">
      <origin
        xyz="0 0 -0.296"
        rpy="0 0 0" />
      <parent
        link="BackRight_shank_inner" />
      <child
        link="BackRight_ankle_inner" />
      <axis
        xyz="0 0 0" />
    </joint>


<!--  ###############################################  -->



</robot>
